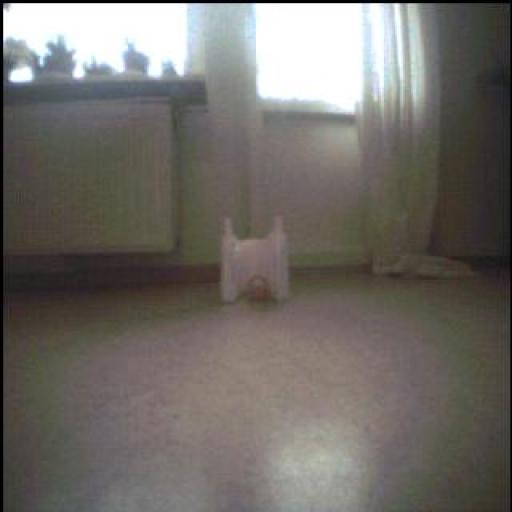Basket: (242, 274, 275, 302)
